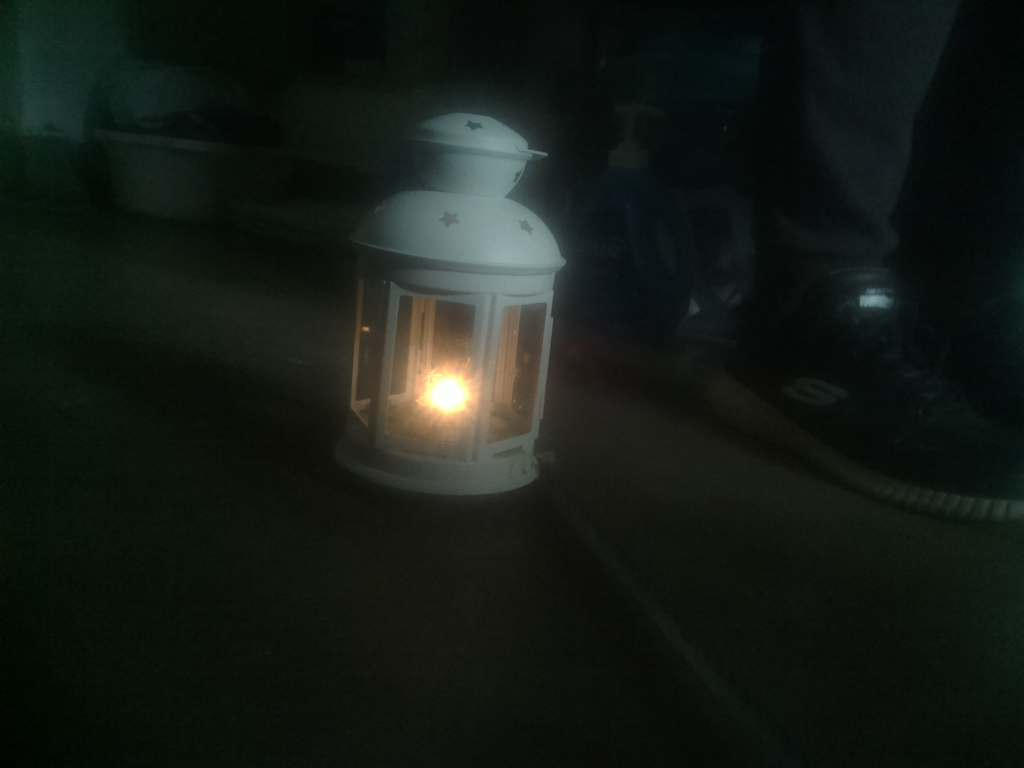fire: (394, 338, 486, 443)
